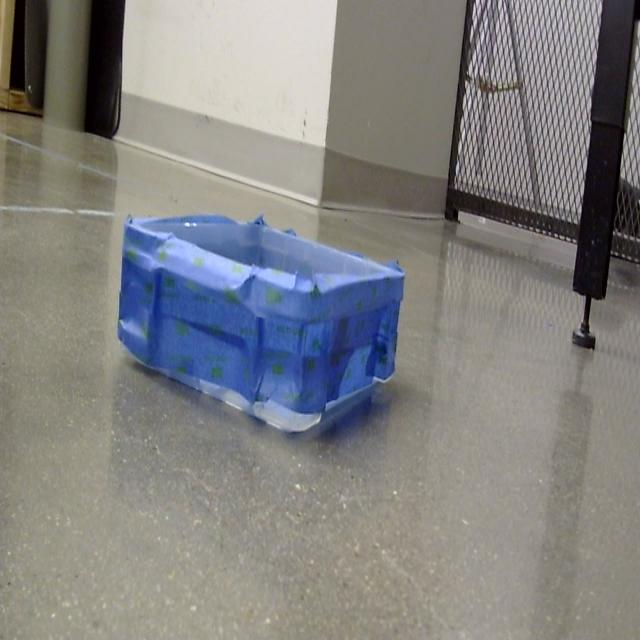bucket: (117, 215, 405, 441)
